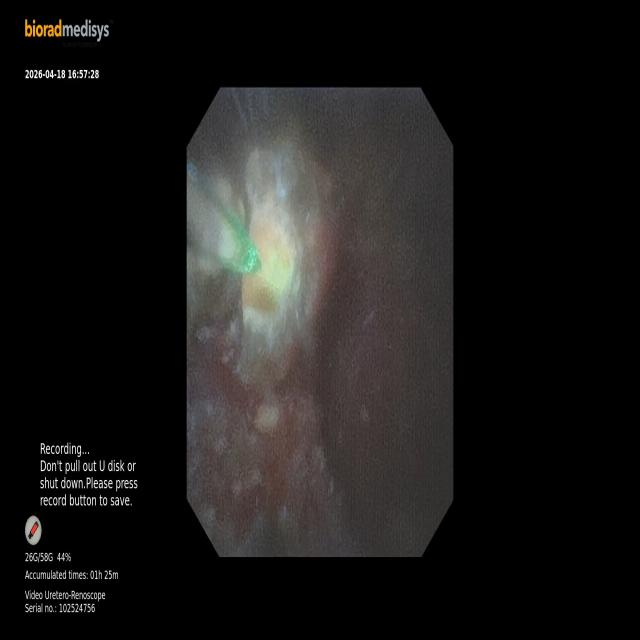laser-fibre: (187, 164, 255, 274)
laser_dot: (268, 249, 293, 296)
stone-new: (239, 137, 330, 388)
